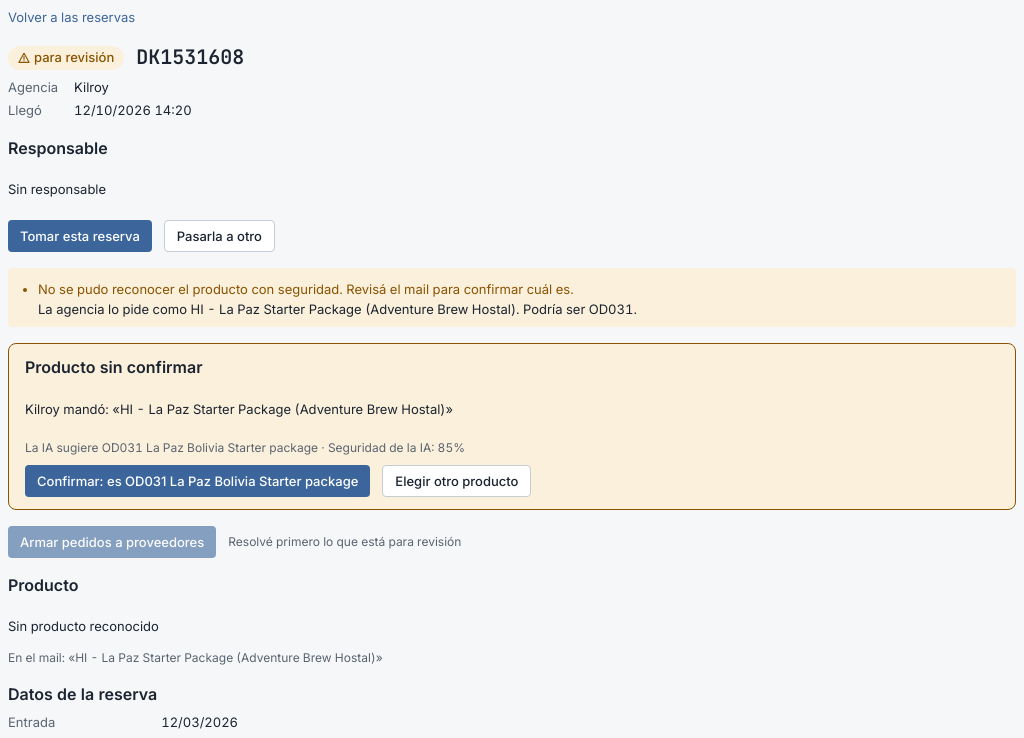
Test case: M3-05 filas 3 y 9 — confirmar pide un OK y después muestra la reserva actualizada › sin confirmar el diálogo no cambia nada
Click the button "Confirmar: es OD031 La Paz Bolivia Starter package".
click(198, 481)  # box left=25, top=465, right=370, bottom=497
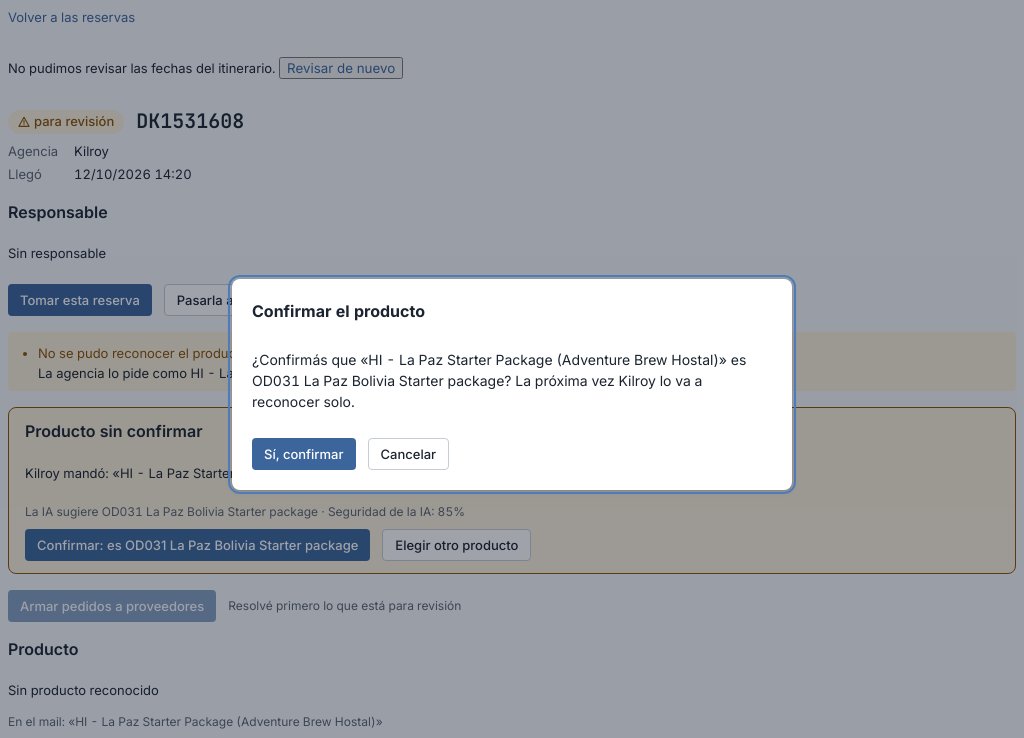
Click the button "Cancelar".
click(408, 454)  # box left=368, top=438, right=449, bottom=470
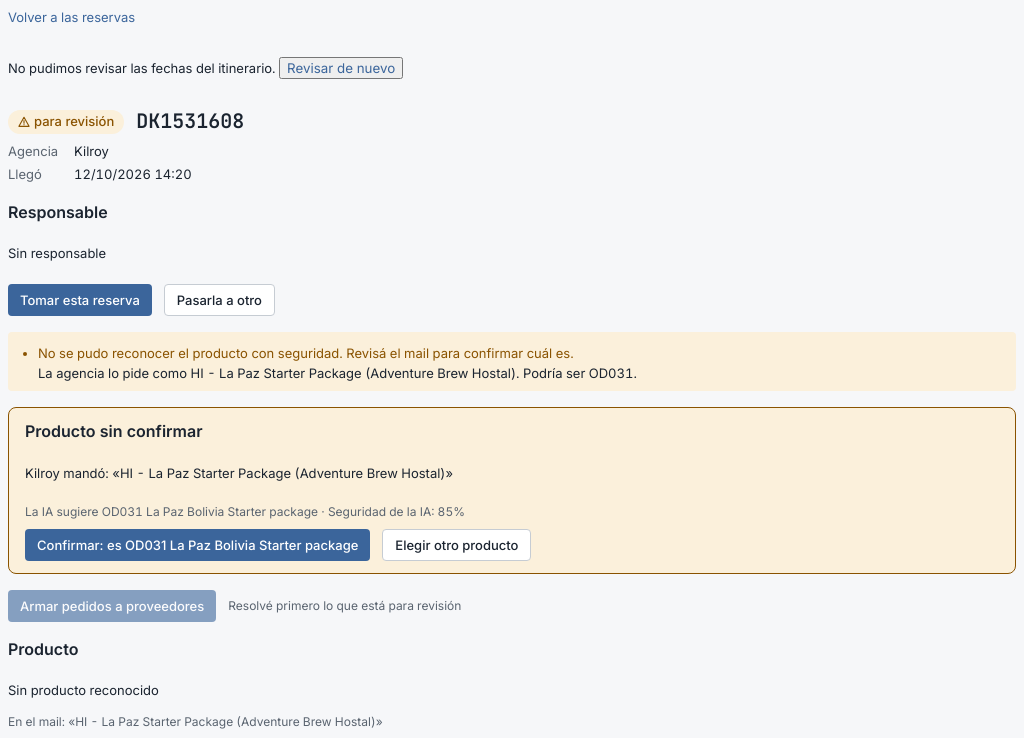
Expected: the dialog is gone
